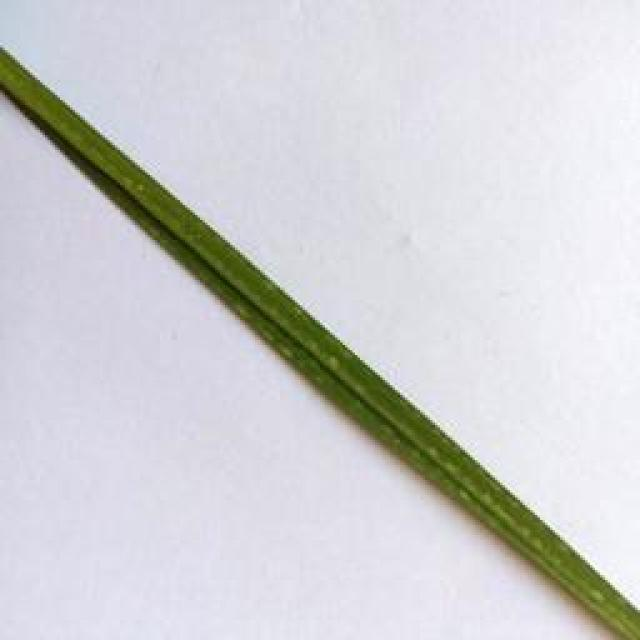Healthy-Plant: (0, 42, 640, 636)
